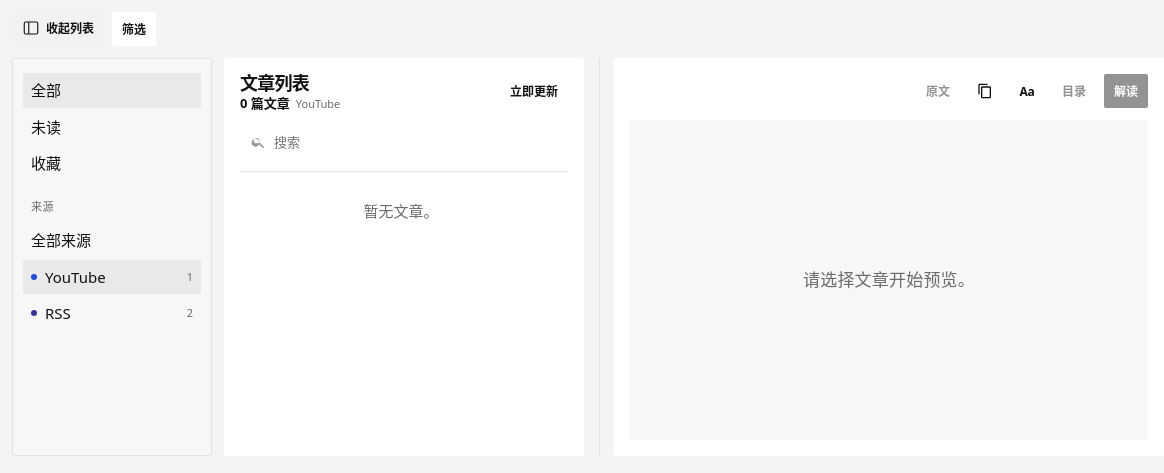
ArticlesPage update entry › replaces the hidden wide rail with a source selector when the list is collapsed
This screenshot has width=1164, height=473.
Expected: the button with aria-label "YouTube · 1 个订阅" is shown, 23,260 -> 201,294
Click the button "收起列表".
click(58, 28)  # box 12,11 -> 104,45
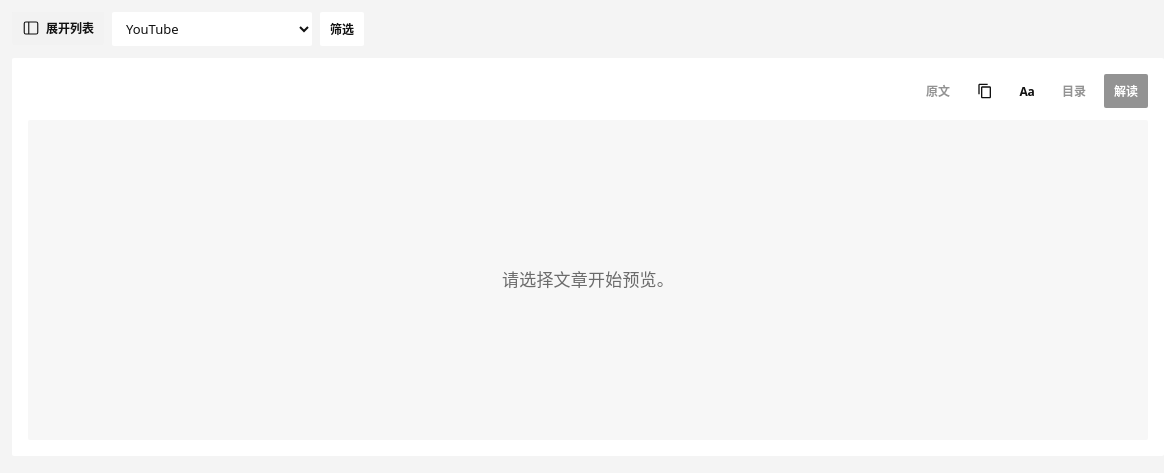
Expected: the element with class "article-view-rail" is gone
Expected: the dropdown named "来源" shows "YouTube", 112,12 -> 312,46
Click the button "展开列表".
click(58, 28)  # box 12,11 -> 104,45
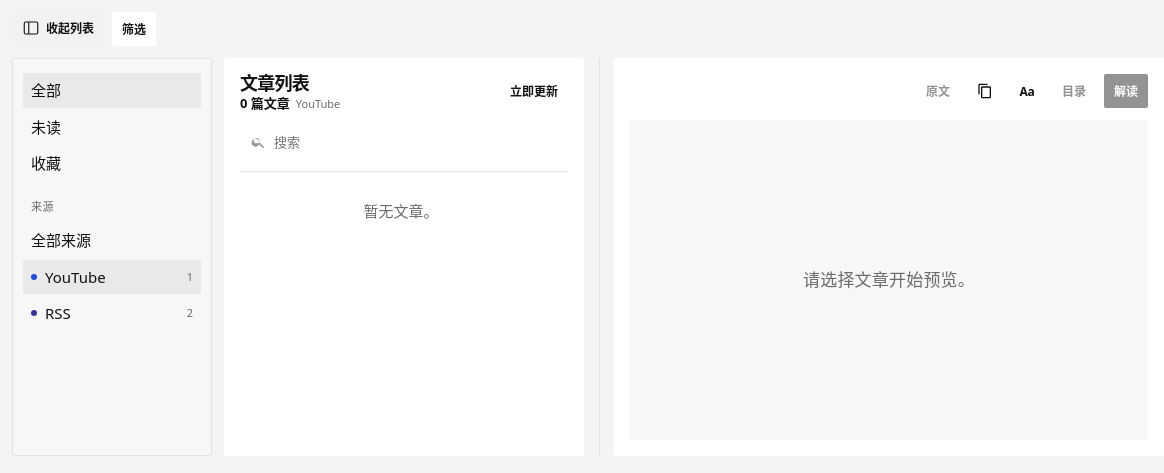
Expected: the element with class "article-view-rail" is shown, 12,58 -> 212,456
